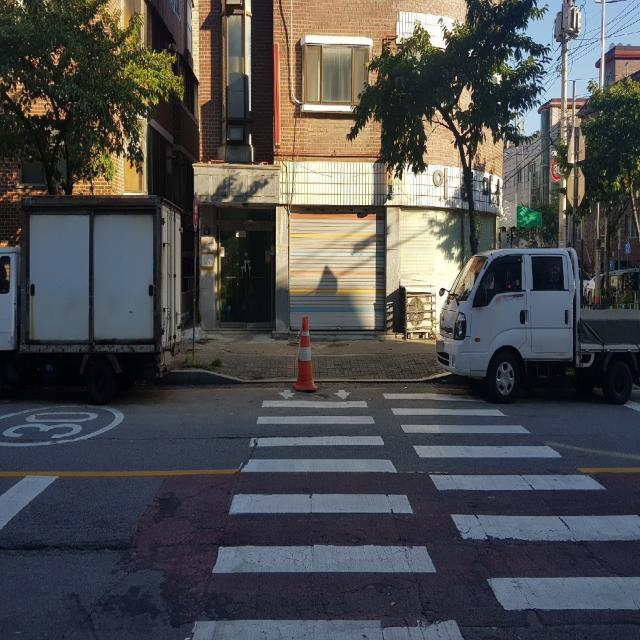횡단보도: (240, 470, 639, 640), (238, 388, 620, 474)
